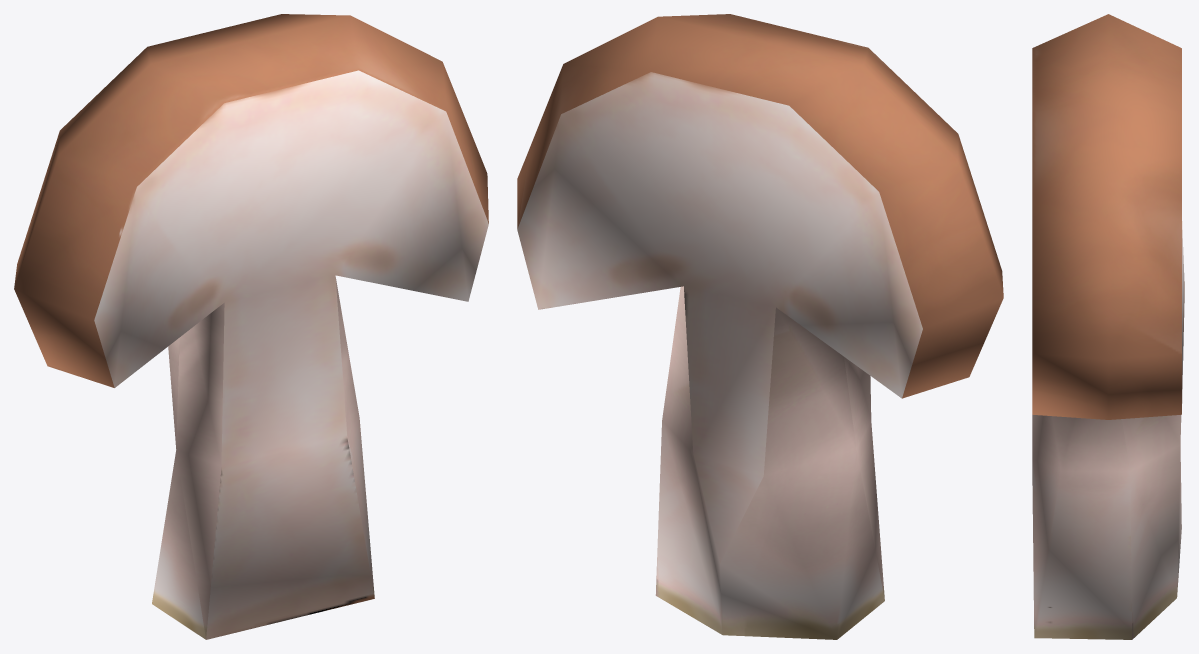
The model's file is Mushroom CUT3.fbx.
3 renders of one model, left to right at view 1: azimuth 30°, elevation 25°; view 2: azimuth 150°, elevation 25°; view 3: azimuth 270°, elevation 25°, orthographic. The views are drawn at different scales.
Parts seen in each view (by area): view 1: Mushroom CUT3; view 2: Mushroom CUT3; view 3: Mushroom CUT3.
Boxes of the visible parts, x1=… form: Mushroom CUT3: x1=14, y1=14, x2=488, y2=639; Mushroom CUT3: x1=517, y1=14, x2=1003, y2=639; Mushroom CUT3: x1=1032, y1=14, x2=1184, y2=639.
Bounding box in the file's own units: 33.24 × 37.04 × 9.56.
